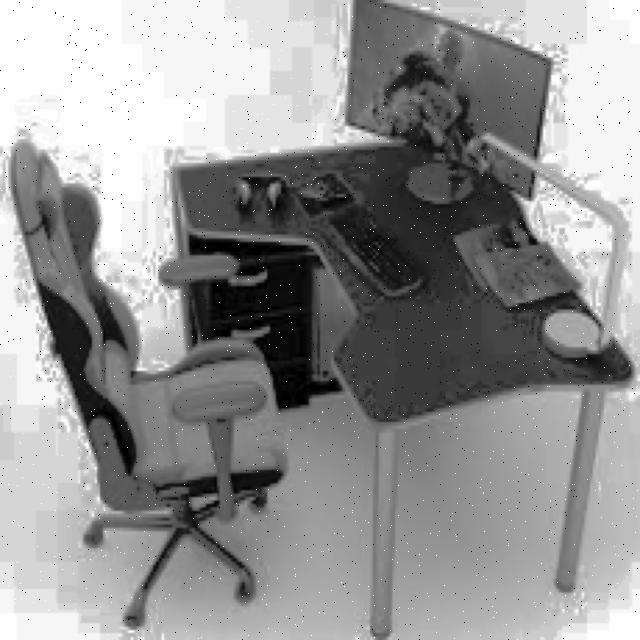book: (11, 139, 290, 626)
table: (173, 133, 637, 636)
